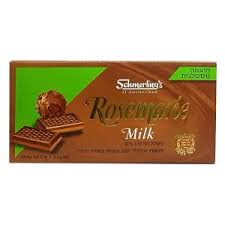Chocolate: (5, 56, 224, 173)
